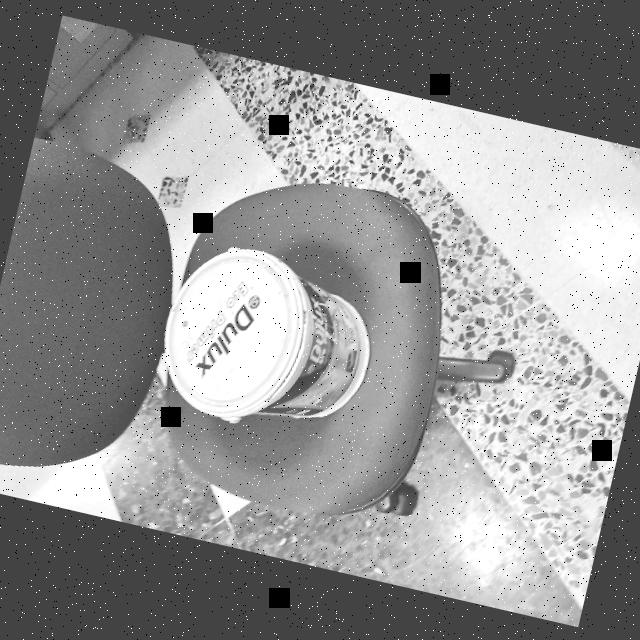paint_bucket: (145, 225, 394, 472)
